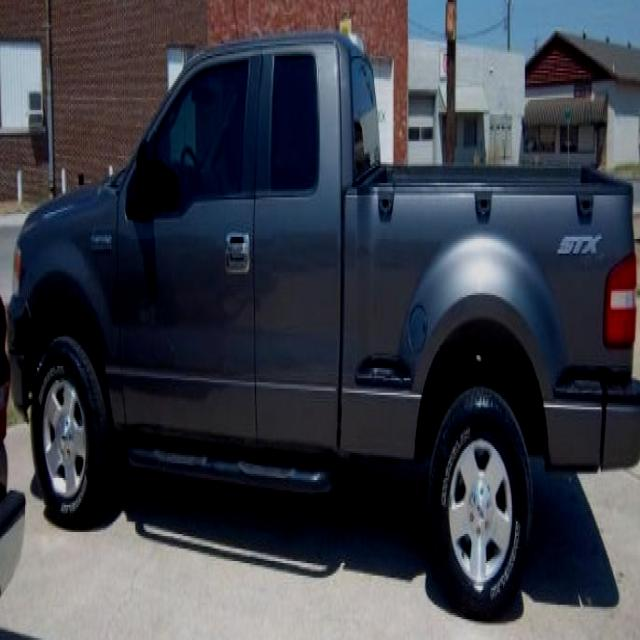CMT: (17, 43, 638, 532)
